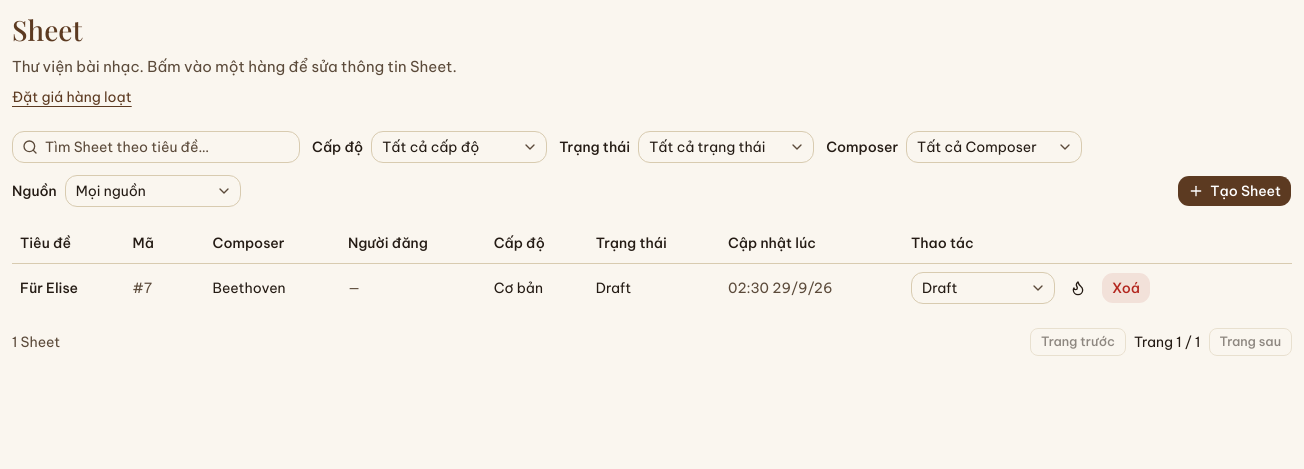
Test: Trang /sheets — bảng › keeps delete confirmation open and displays an error when deletion fails
Expected: the row "Für Elise" is shown, [12, 263, 1292, 312]
Click the button "Xoá" at [1126, 288], box [1101, 272, 1151, 304]
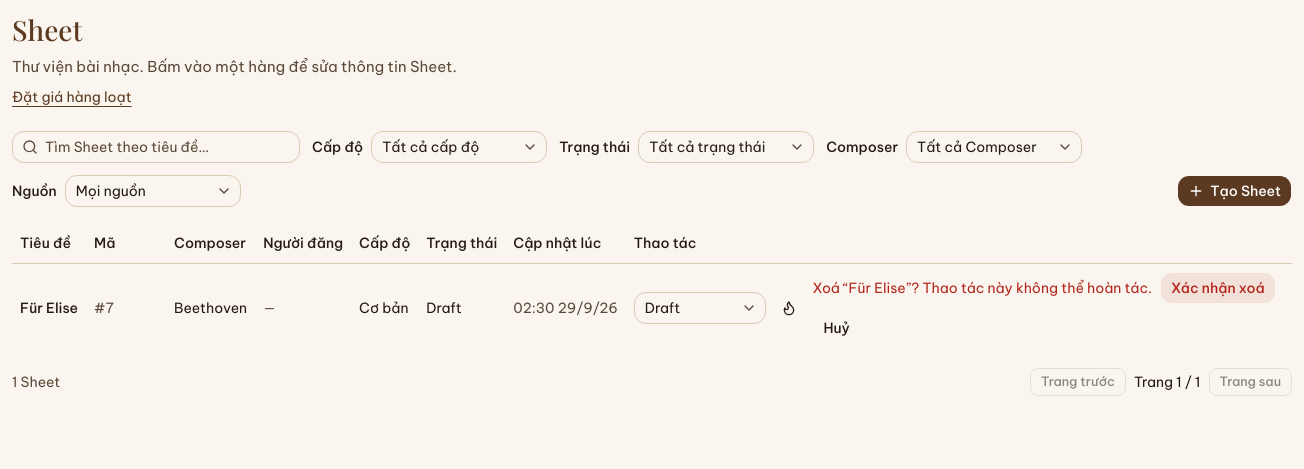
Click the button "Xác nhận xoá" at [1218, 288], box [1160, 272, 1276, 304]
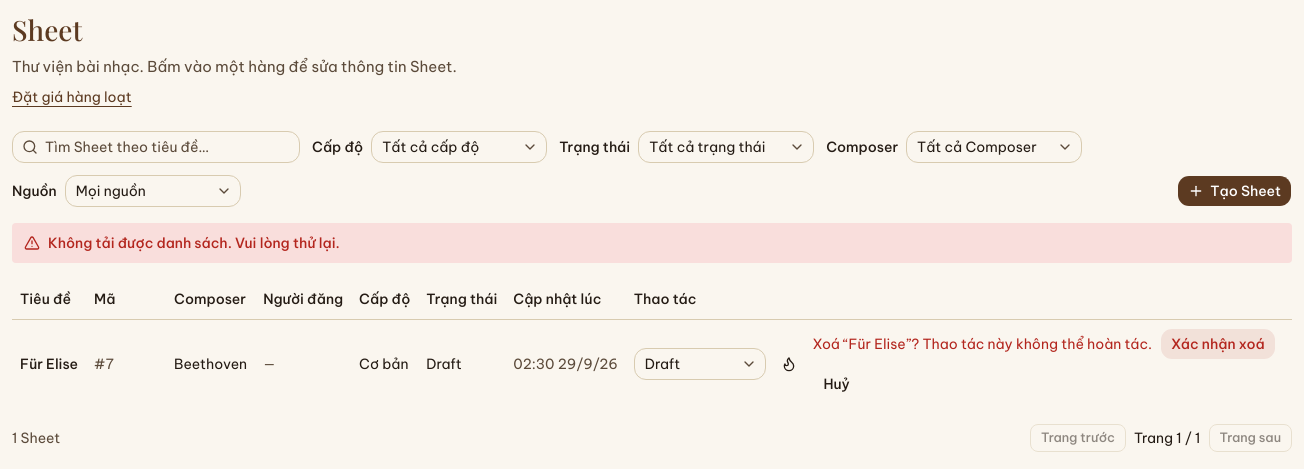
Expected: the button "Xác nhận xoá" is shown, [1160, 328, 1276, 360]
Expected: the message "Không tải được danh sách. Vui lòng thử lại." is shown, [12, 223, 1292, 263]
